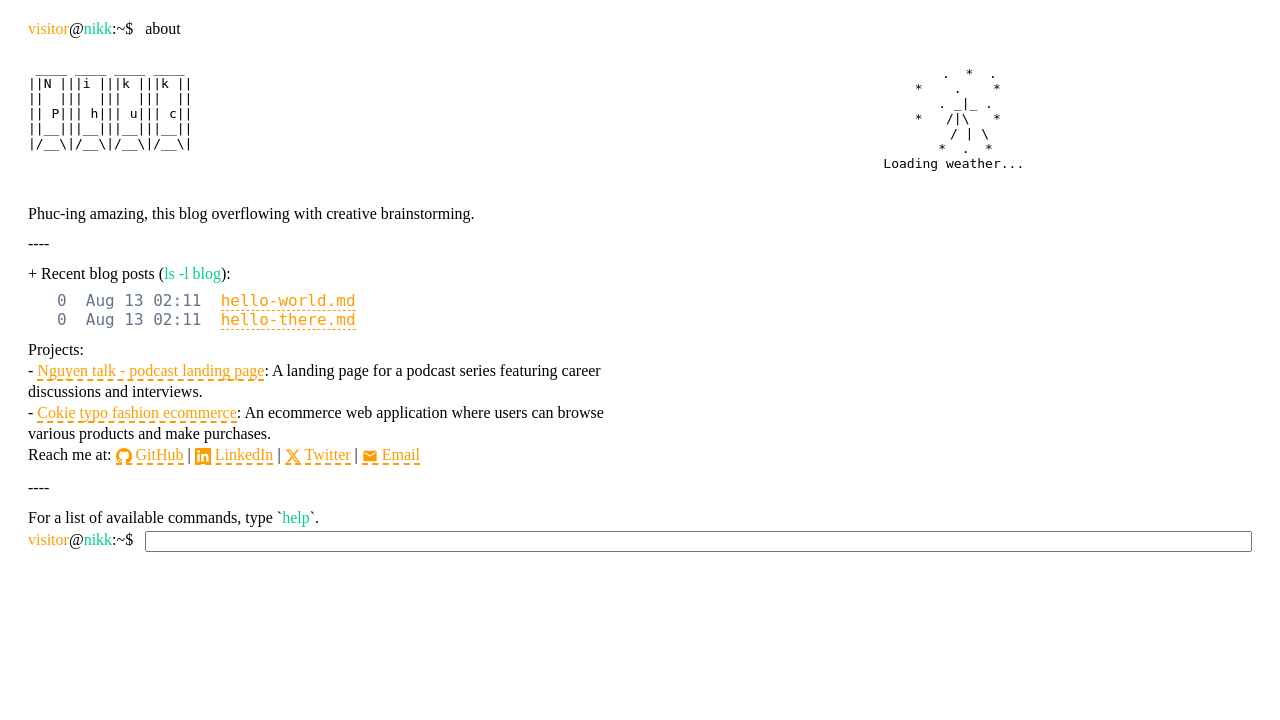
Test: Terminal component › autocomplete behavior › shows hints and selects first match for multiple matching commands on Tab
Note: 'c' matches cat, clear
Step 1. Type "c" into the field titled "terminal-input" → (699, 542), box [145, 531, 1252, 552]
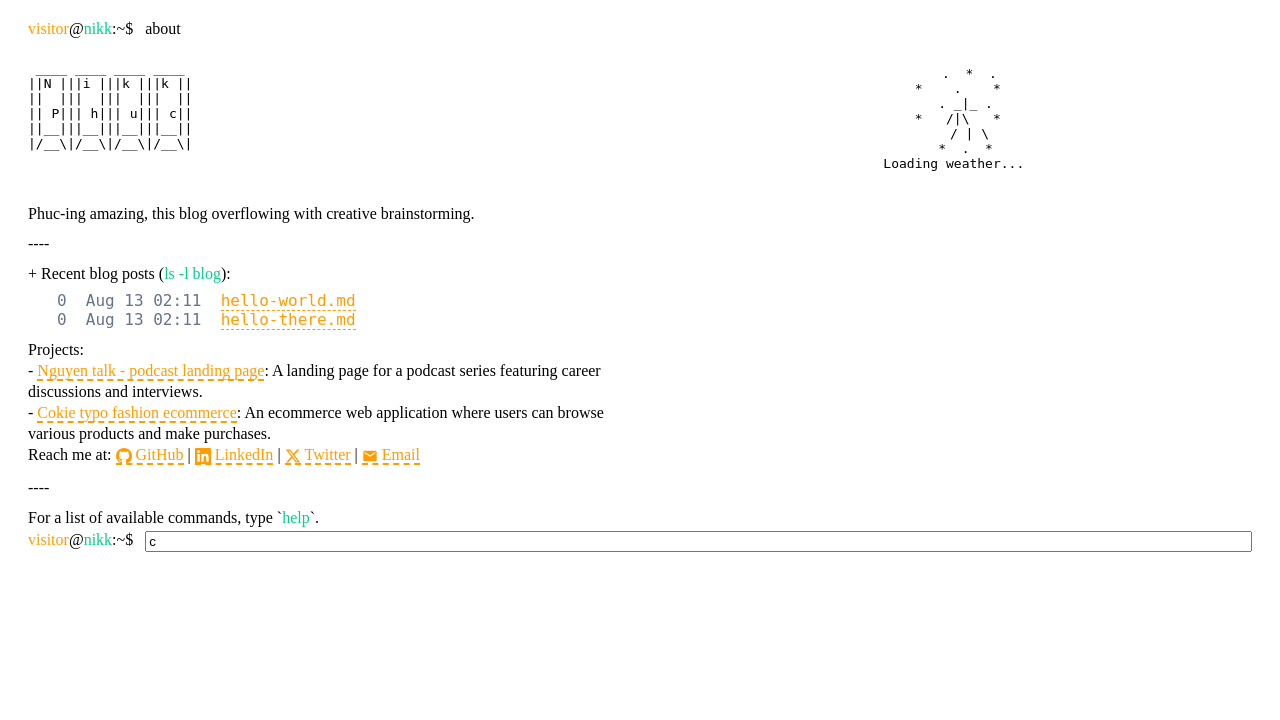
Step 2. Press Tab in the field titled "terminal-input", box [145, 531, 1252, 552]
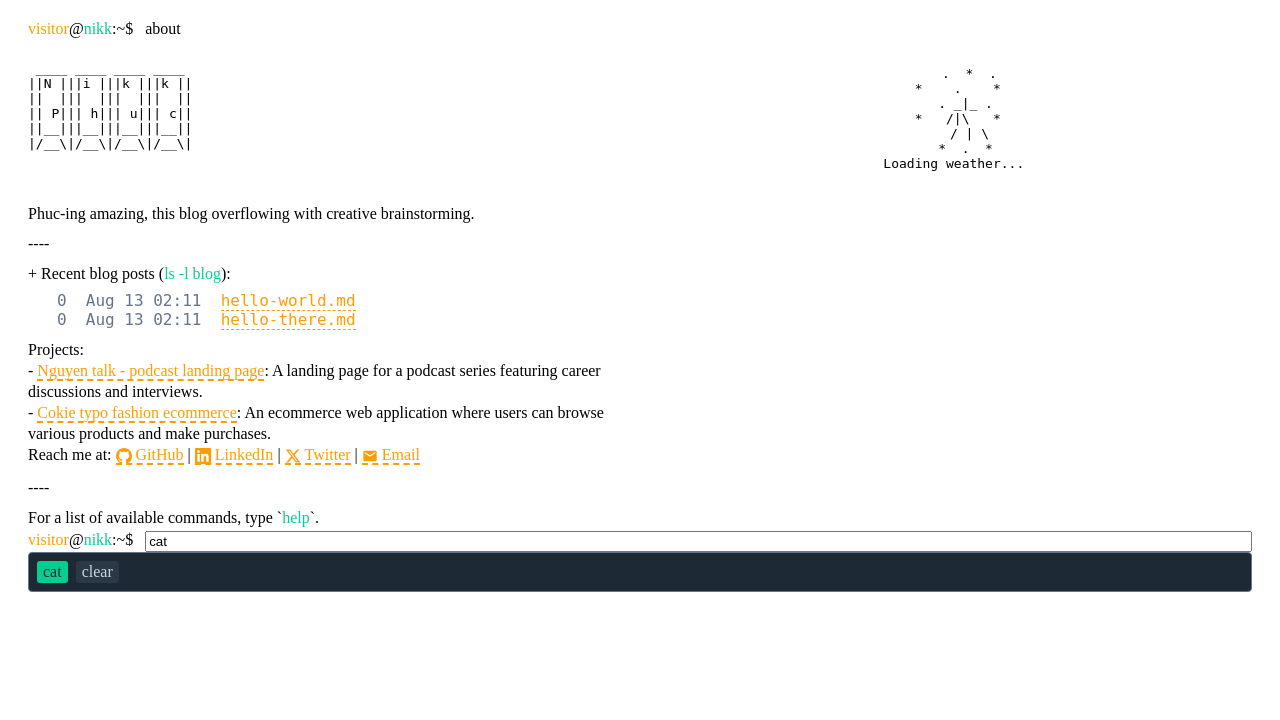
Expected: the text "cat" is shown, [37, 561, 68, 583]
Expected: the text "clear" is shown, [76, 561, 119, 583]
Expected: the field titled "terminal-input" holds "cat", [145, 531, 1252, 552]
